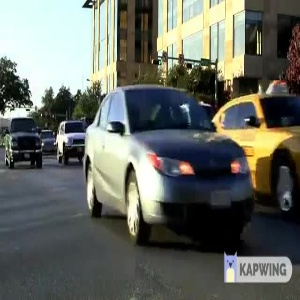car: (80, 83, 251, 238)
suv: (53, 116, 91, 166)
truck: (5, 116, 46, 171)
